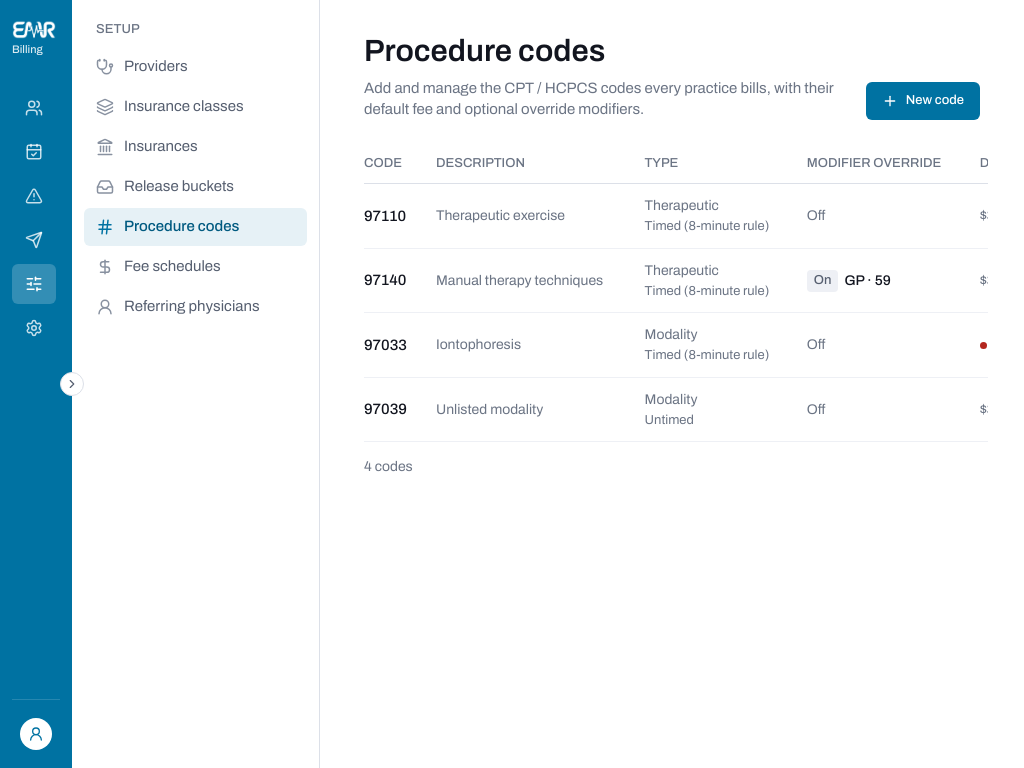
Test: Setup → Procedure codes › adds a code to the list, with placeholders on its fields and the server’s message
Click the button "New code" at (923, 101), box [866, 82, 980, 120]
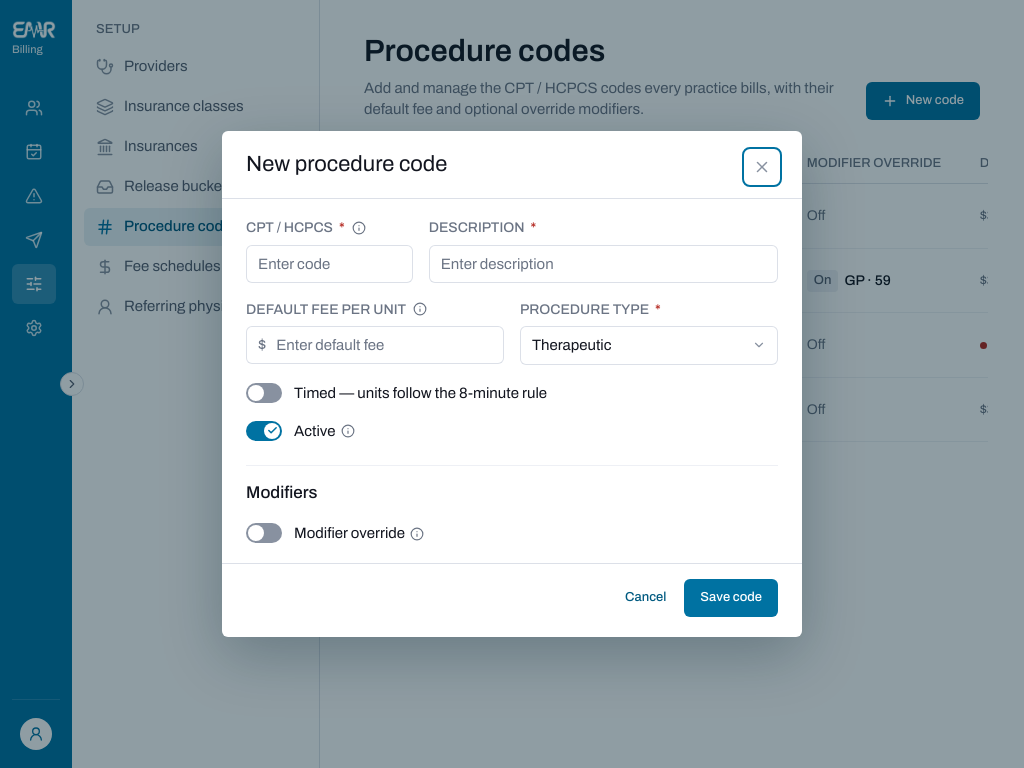
Type "g0283" into the field labelled "CPT / HCPCS *" at (329, 264), box [258, 244, 401, 282]
Type "Electrical stimulation, unattended (Medicare)" into the field labelled "Description *" at (603, 264), box [441, 244, 766, 282]
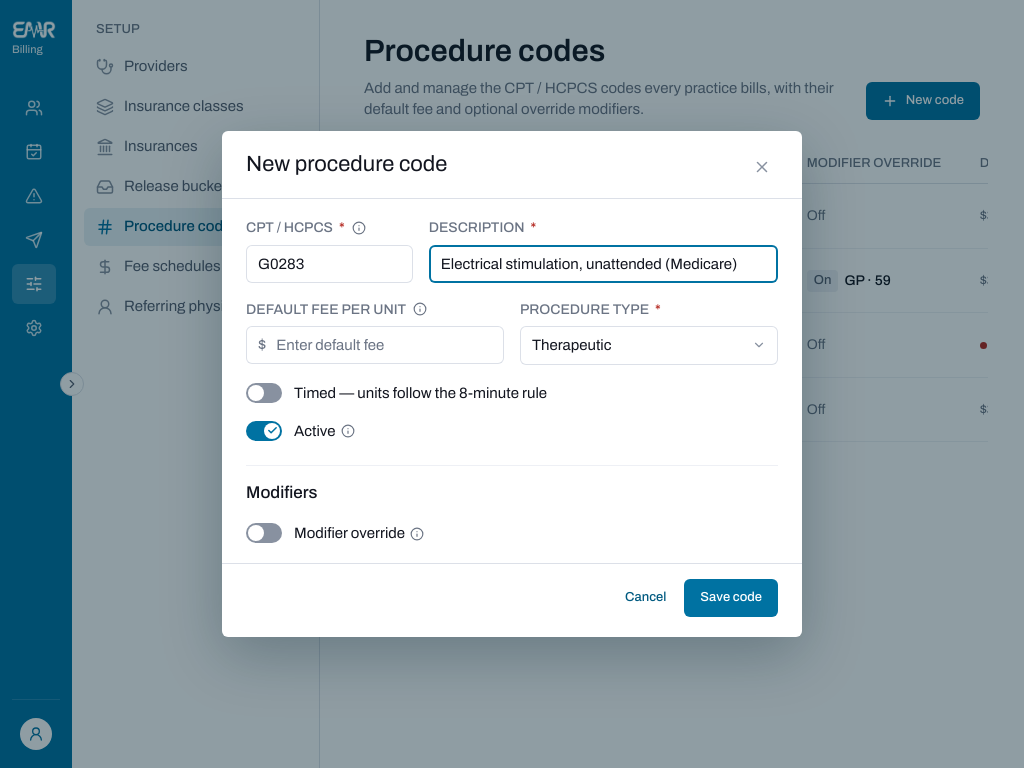
Type "16" into the field labelled "Default fee per unit" at (384, 345), box [276, 326, 492, 364]
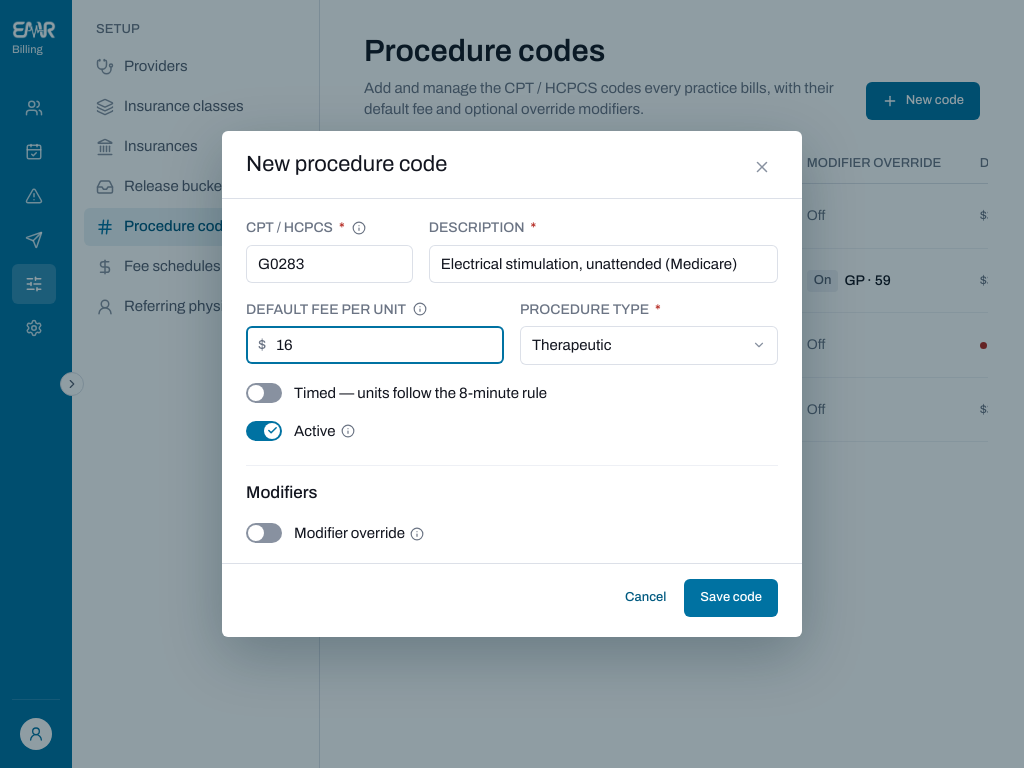
Click the dropdown named "procedure type" at (649, 345), box [520, 326, 778, 364]
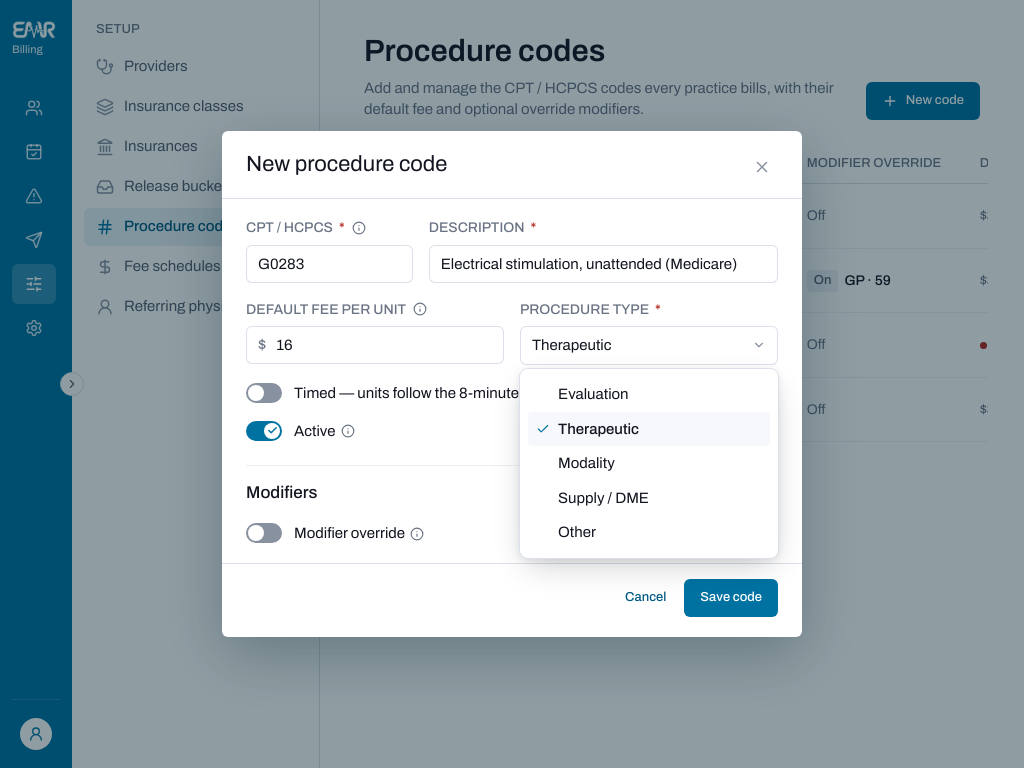
Result: the options read "Evaluation", "Therapeutic", "Modality", "Supply / DME", "Other", in this order
Click the option "Modality" at (586, 463), box [558, 455, 615, 471]
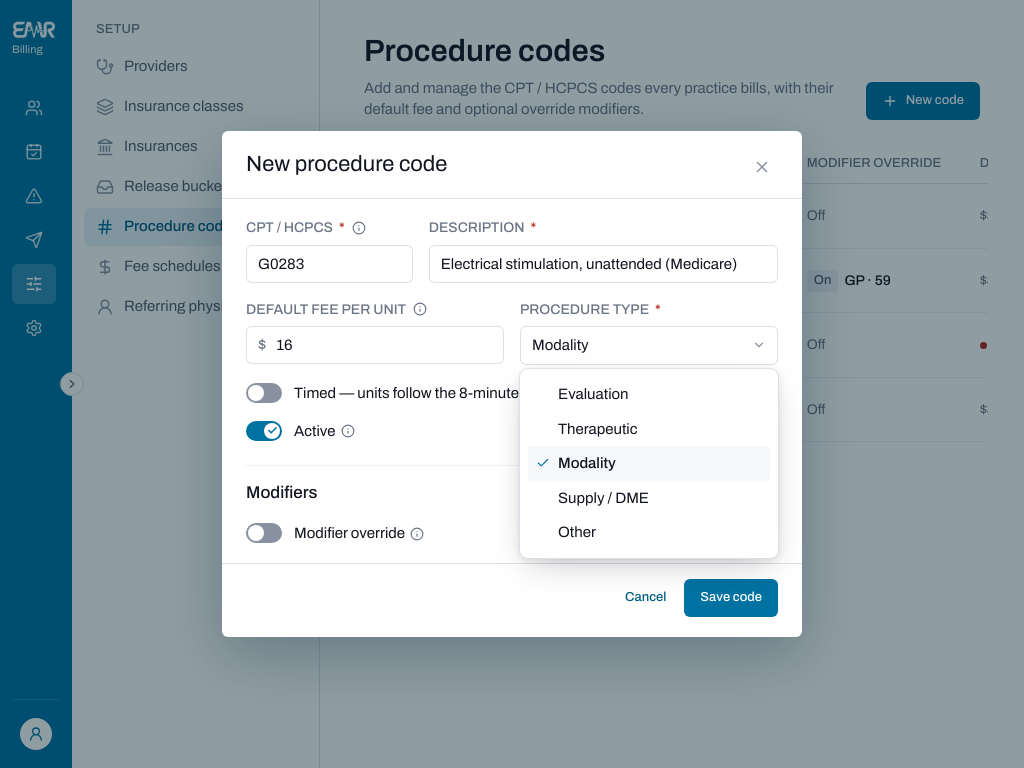
Click the button "Save code" at (731, 598), box [684, 579, 778, 617]
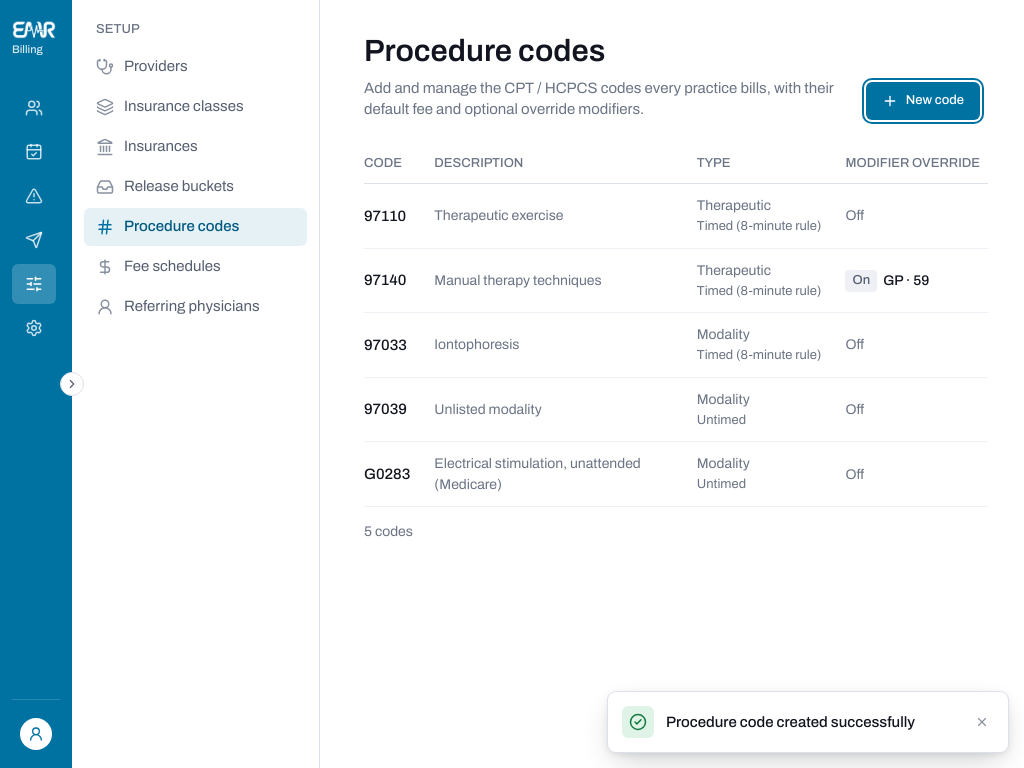
Result: the dialog is gone
Result: the row that starts with "G0283" shows "Electrical stimulation, unattended (Medicare)" at [434, 456, 641, 492]
Result: the row that starts with "G0283" shows "Untimed" at [697, 477, 746, 491]
